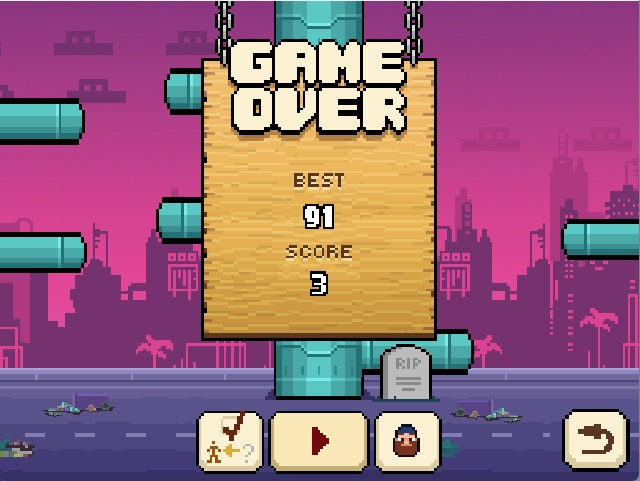game_over: (224, 36, 410, 142)
